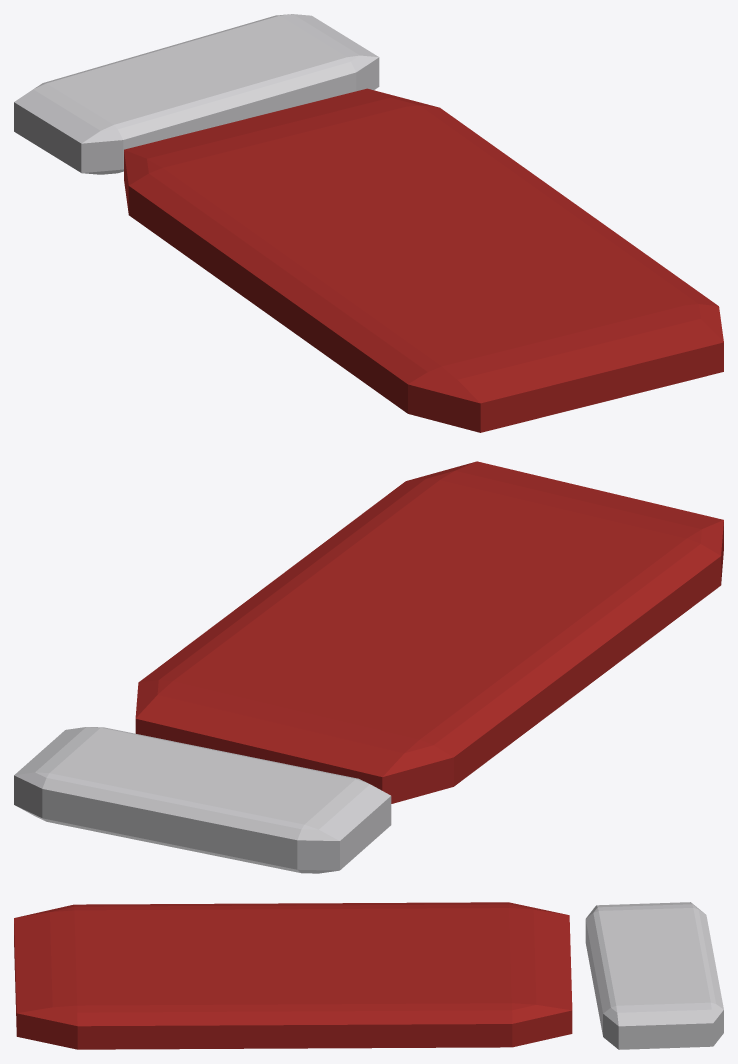
Rendered from LowPolyBed.fbx.
3 renders of one model, top to bottom at view 1: azimuth 30°, elevation 25°; view 2: azimuth 150°, elevation 25°; view 3: azimuth 270°, elevation 25°, orthographic. The views are drawn at different scales.
Visible parts, largest first — view 1: Cube.002, Cube.001; view 2: Cube.002, Cube.001; view 3: Cube.002, Cube.001.
Part boxes in pixels (x1=…): Cube.002: x1=124, y1=88, x2=723, y2=432; Cube.001: x1=14, y1=14, x2=379, y2=174; Cube.002: x1=135, y1=461, x2=723, y2=803; Cube.001: x1=14, y1=727, x2=391, y2=873; Cube.002: x1=14, y1=902, x2=572, y2=1049; Cube.001: x1=585, y1=902, x2=723, y2=1049.
Size of the model in its own units: 219 by 31.55 by 529.
